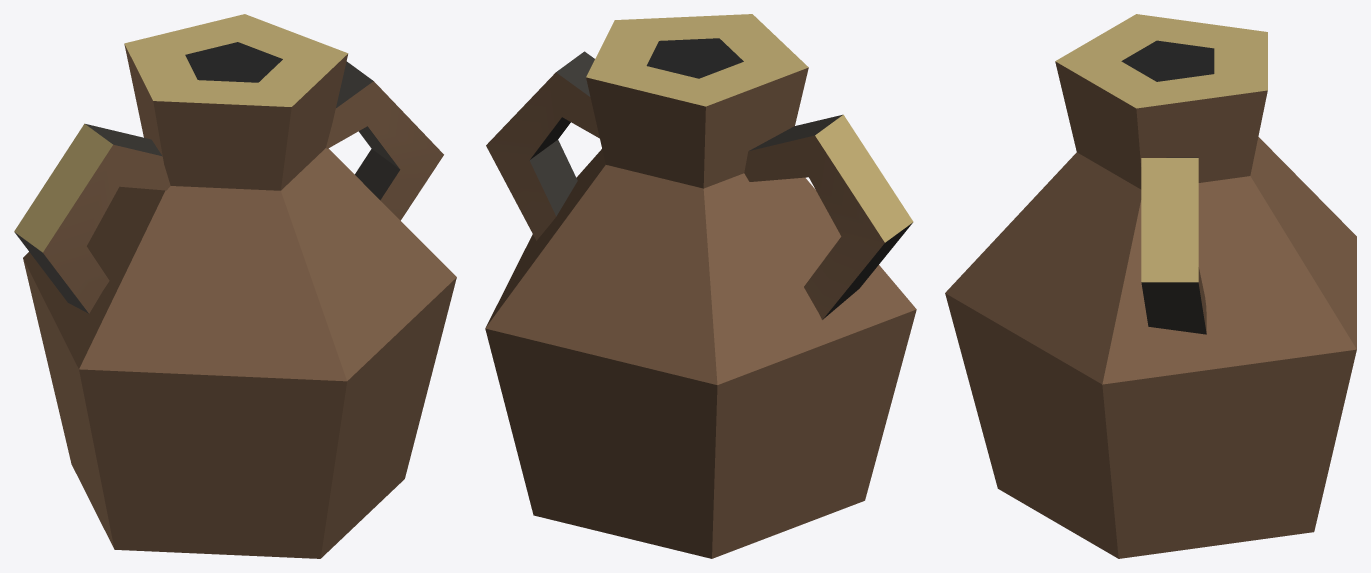
The model's file is TB_D_Prop_Jar_K.FBX.
3 views of the same model, side by side, from view 1: azimuth 30°, elevation 25°; view 2: azimuth 150°, elevation 25°; view 3: azimuth 270°, elevation 25° (orthographic).
Visible parts, largest first — view 1: TB_D_Prop_Jar_K; view 2: TB_D_Prop_Jar_K; view 3: TB_D_Prop_Jar_K.
Part boxes in pixels (x1,y1,x2,y2): TB_D_Prop_Jar_K: (14, 14, 456, 558); TB_D_Prop_Jar_K: (485, 14, 916, 558); TB_D_Prop_Jar_K: (945, 14, 1356, 558).
Bounding box in the file's own units: 0.8156 × 0.8363 × 0.7304.
